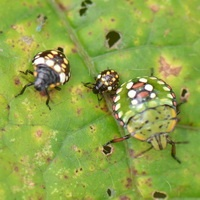insect: (100, 70, 188, 162), (15, 47, 69, 109), (84, 69, 118, 100)
